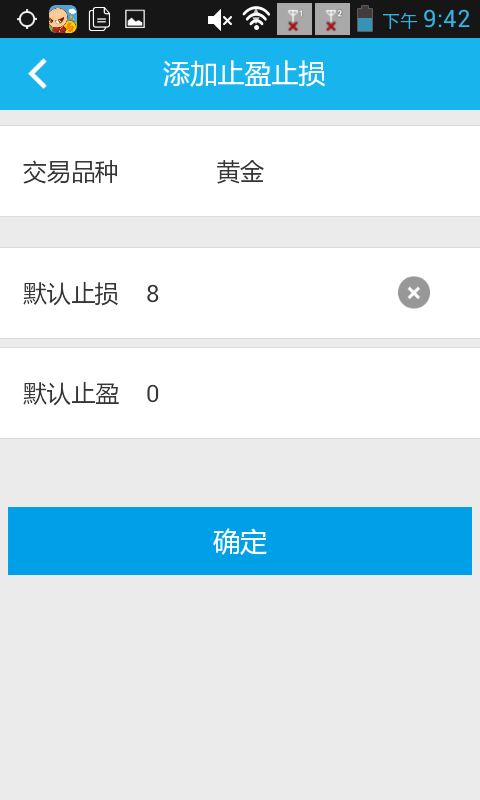button: (3, 498, 480, 582)
textview: (4, 350, 480, 442)
